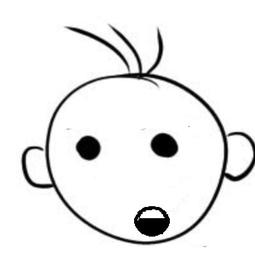ear: (216, 125, 255, 184), (16, 142, 55, 190)
eye: (144, 128, 184, 164), (71, 129, 108, 164)
open_mouth: (132, 204, 171, 239)
